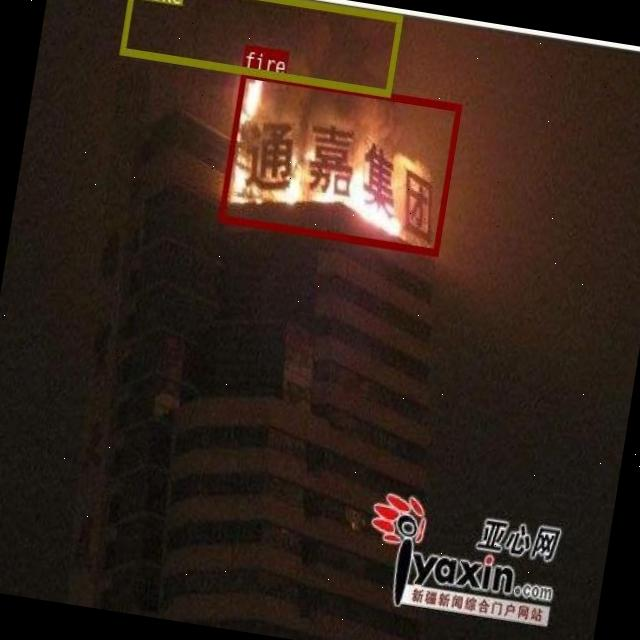fire: (218, 68, 460, 254)
smoke: (119, 0, 403, 96)
